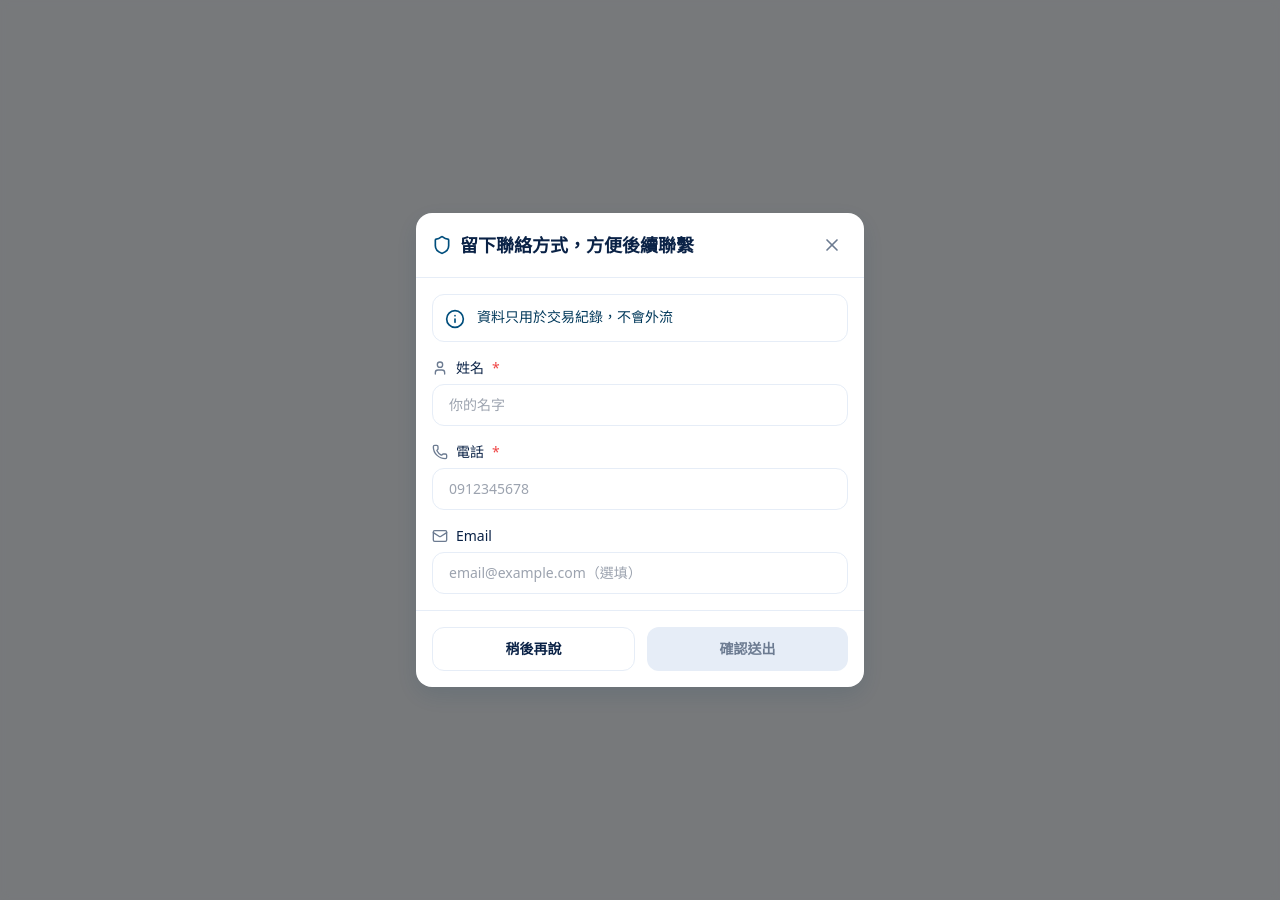
DataCollectionModal › 表單驗證 › 應拒絕無效電話格式
The width and height of the screenshot is (1280, 900).
填寫姓名和無效電話
Type "王小明" into the field labelled "姓名 *" at (640, 405), box [432,384,848,426]
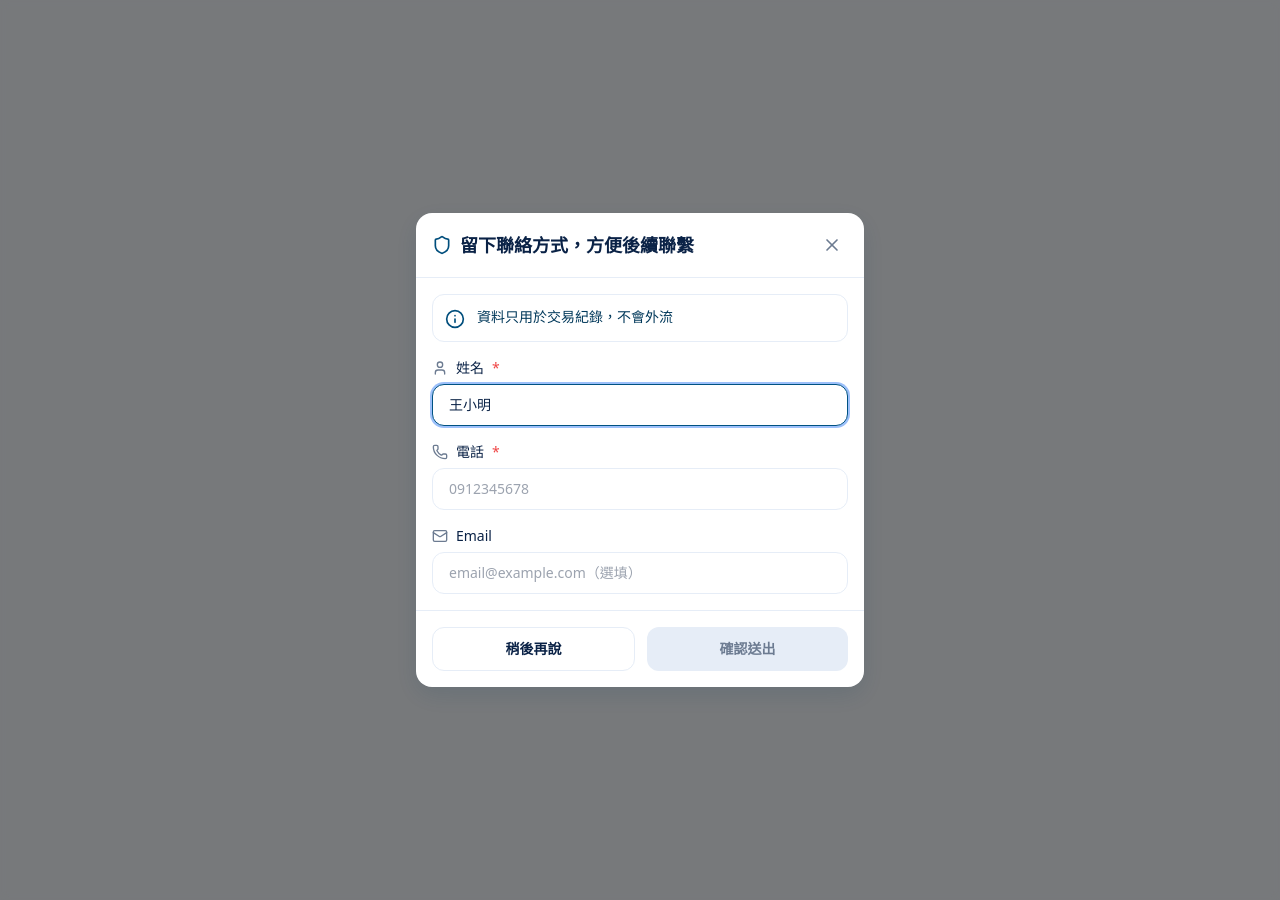
Type "12345" into the field labelled "電話 *" at (640, 489), box [432,468,848,510]
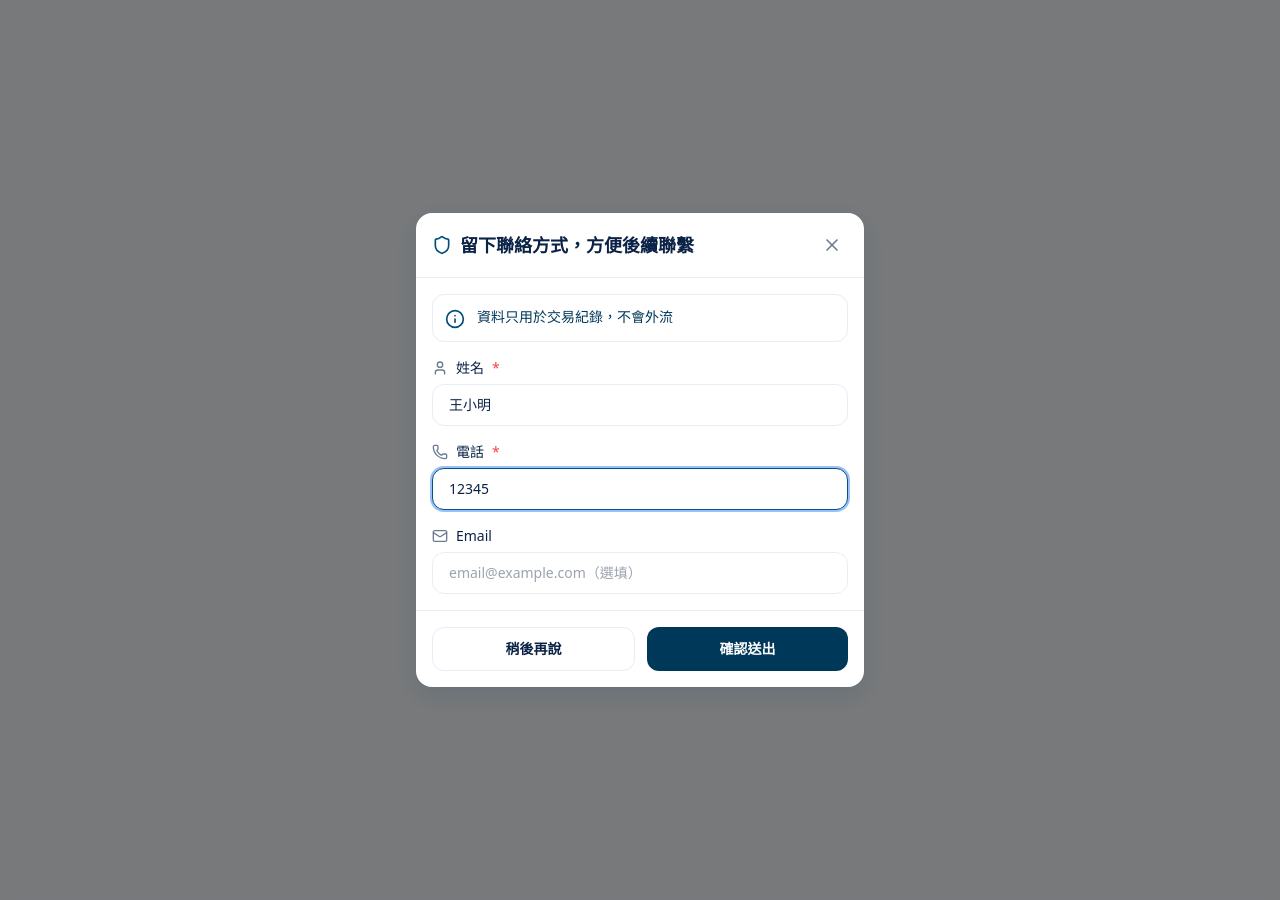
Click the button "確認送出" at (748, 649), box [647,627,848,671]
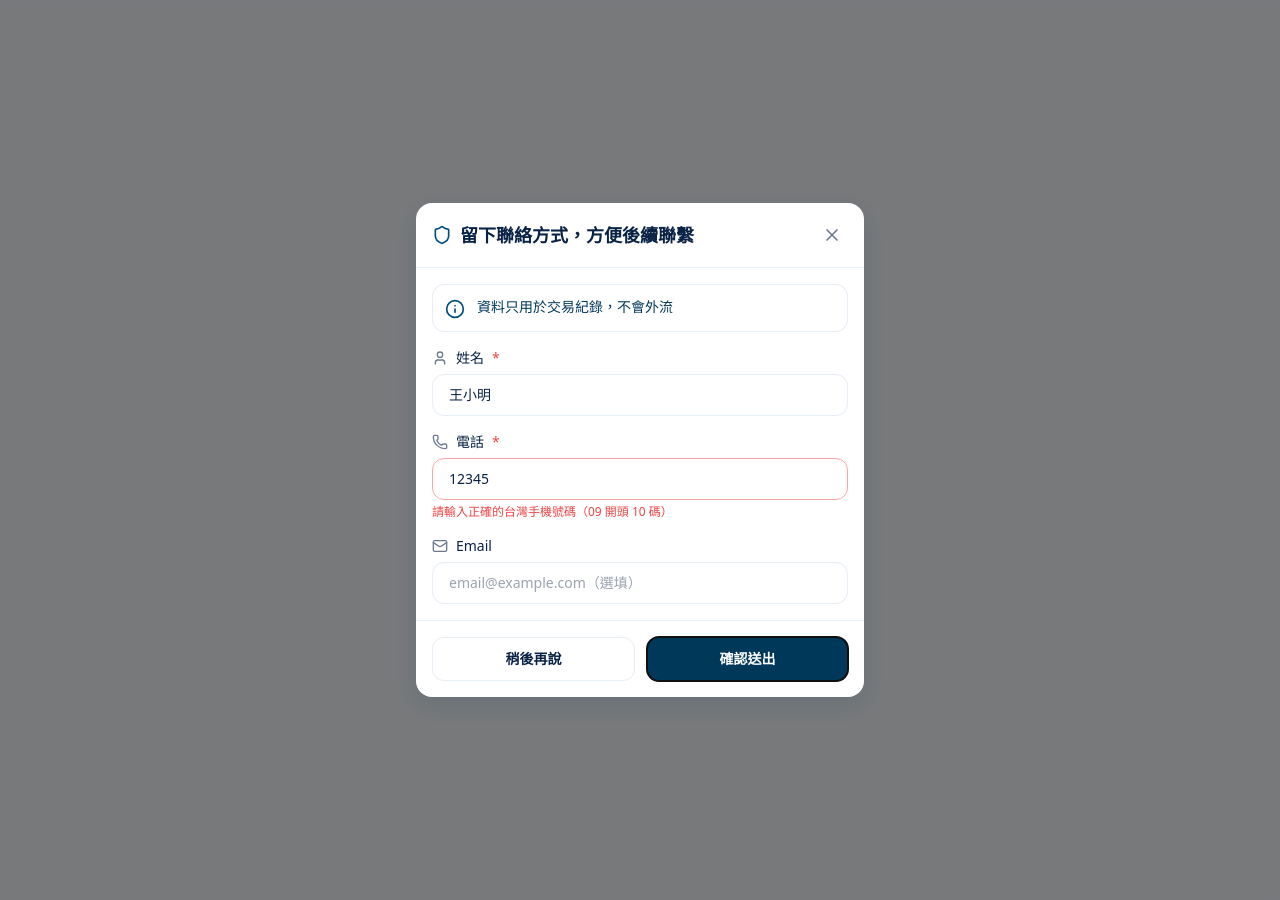
Expected: the text "請輸入正確的台灣手機號碼（09 開頭 10 碼）" is shown, [432,503,673,520]
